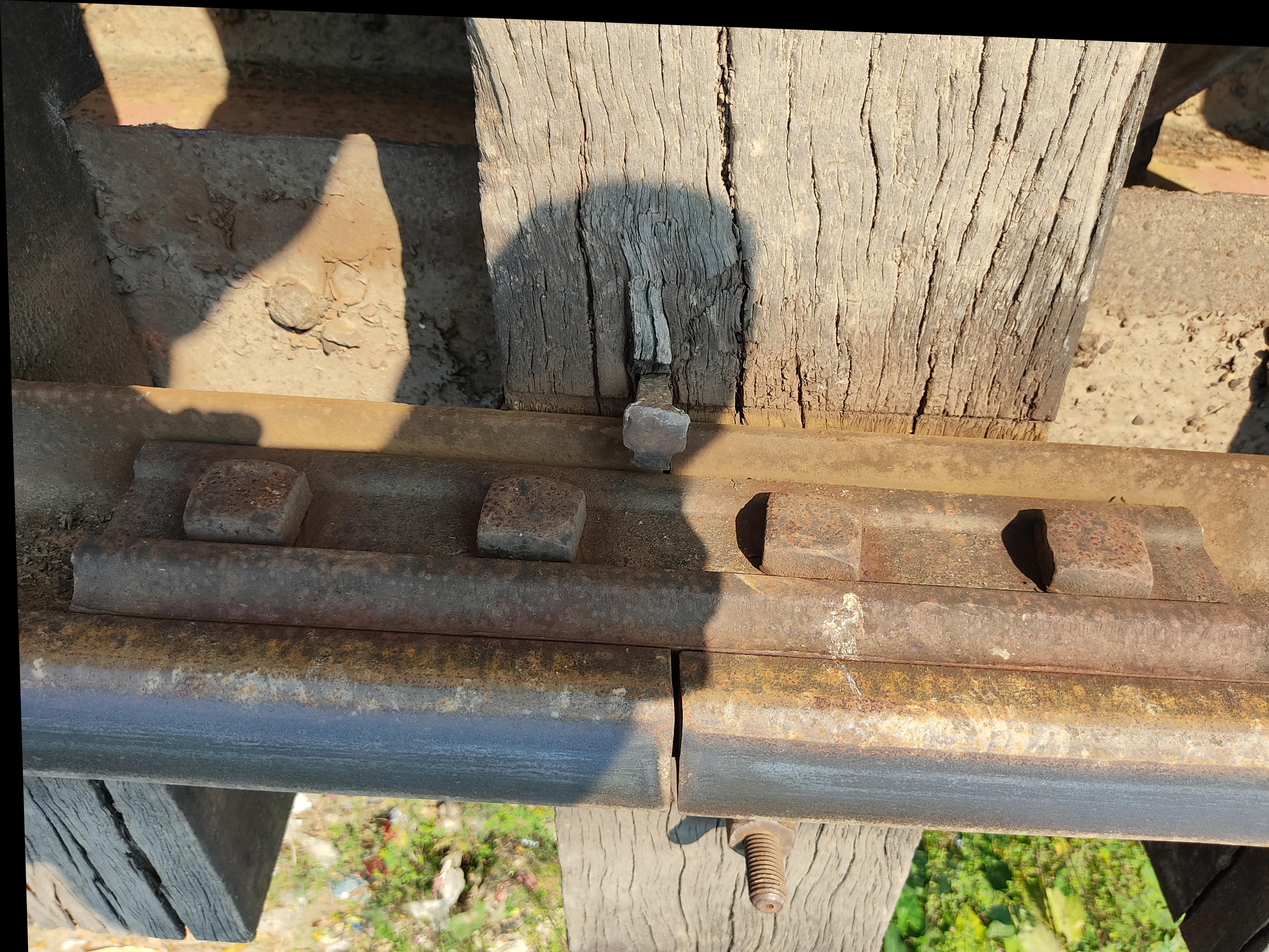person: (301, 783, 411, 884)
